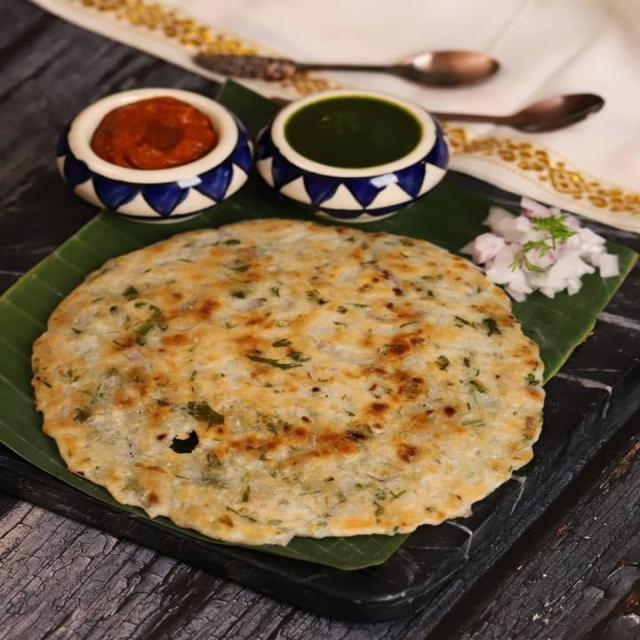RICE BHAKRI: (31, 219, 543, 545)
